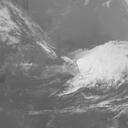cyclone: (47, 43, 109, 95)
